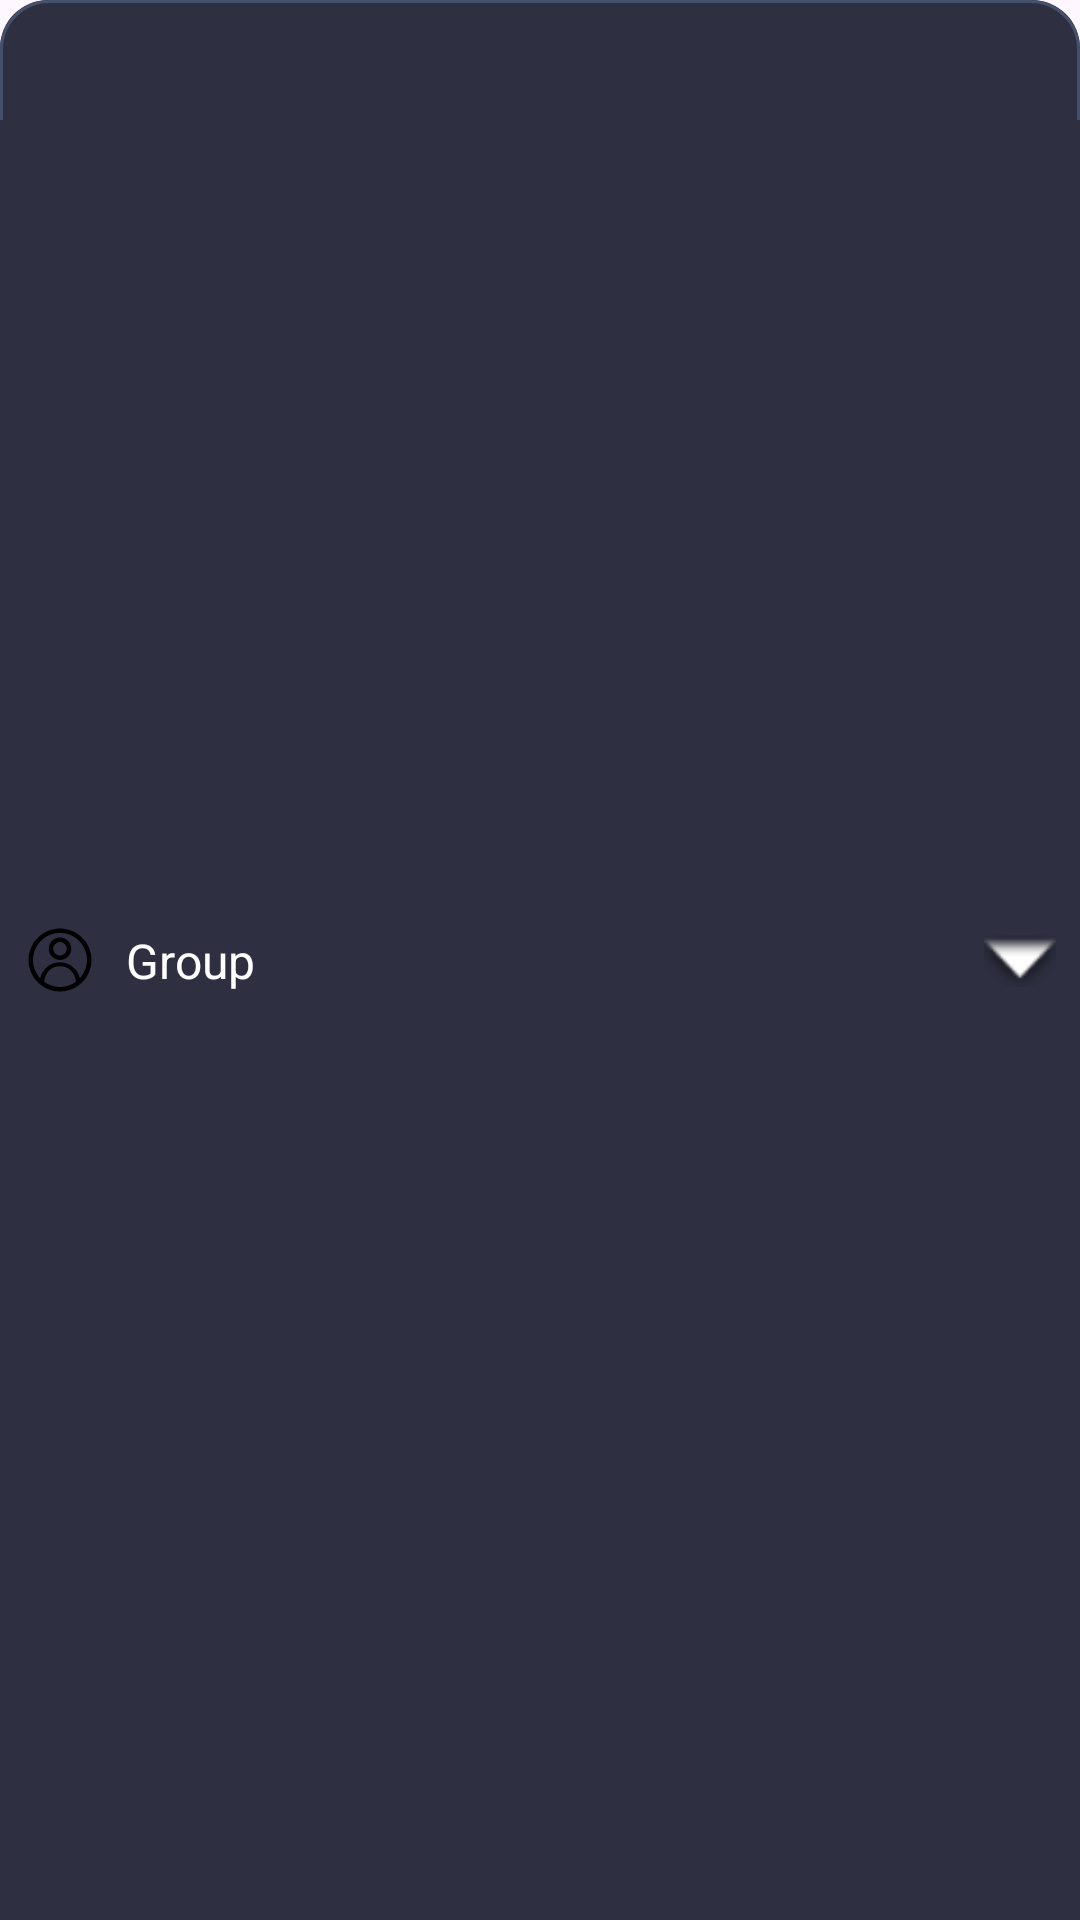

Locate icon controls on the screen. Image size 1080 x 1920, boxes as (x1, y1, x2, y2).
arrow down float: (986, 940, 1054, 978)
user profile: (28, 928, 92, 992)
